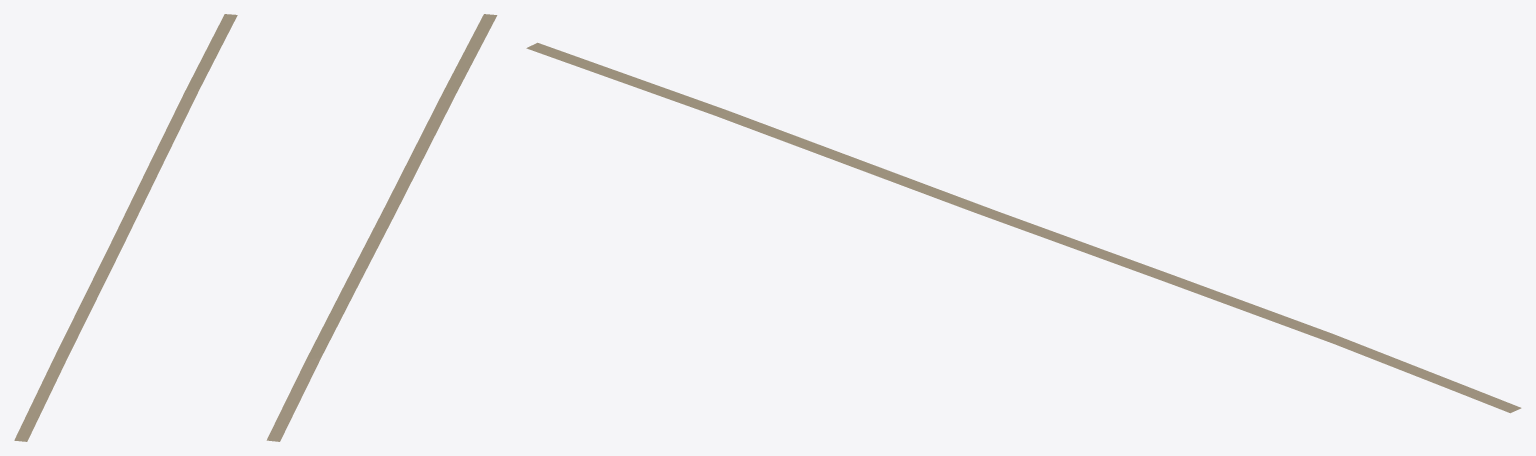
File: farm_-43_-40_track.glb
3 views of the same model, side by side, from view 1: azimuth 30°, elevation 25°; view 2: azimuth 210°, elevation 25°; view 3: azimuth 270°, elevation 25° (orthographic). The views are drawn at different scales.
Visible parts, largest first — view 1: geometry_0; view 2: geometry_0; view 3: geometry_0.
Boxes of the visible parts, bbox=[...] form: geometry_0: bbox=[14, 14, 237, 441]; geometry_0: bbox=[266, 14, 497, 441]; geometry_0: bbox=[526, 42, 1521, 413].
Bounding box in the file's own units: 169 × 2.35 × 187.
